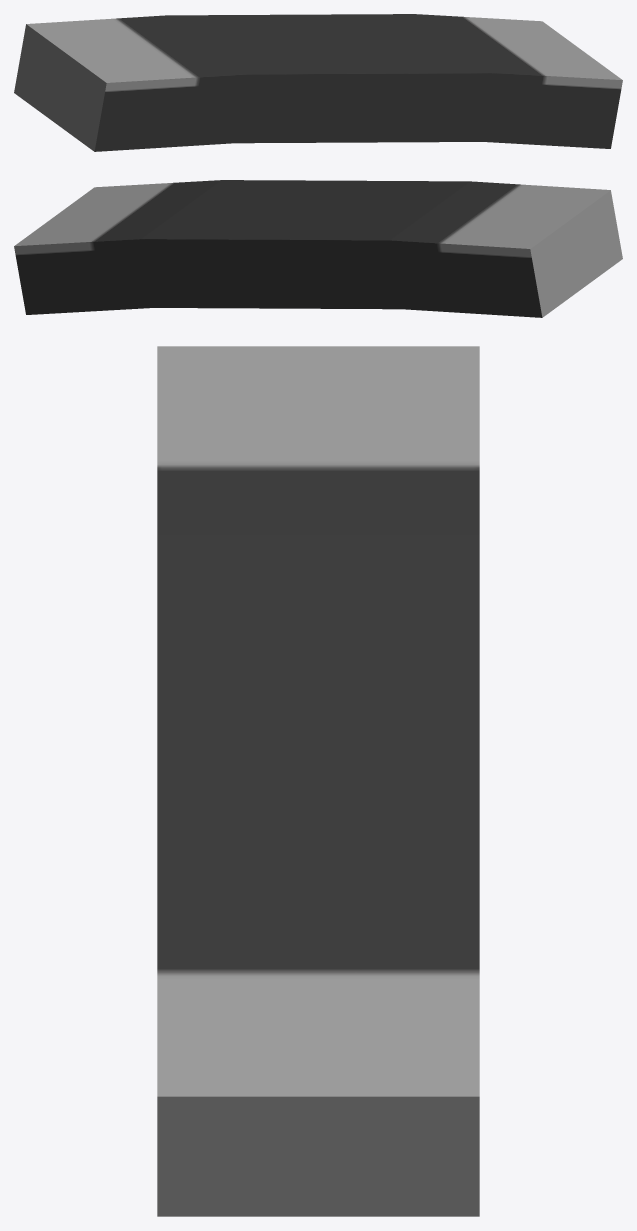
The model's file is telephone.FBX.
3 views of the same model, one above another, from view 1: azimuth 30°, elevation 25°; view 2: azimuth 150°, elevation 25°; view 3: azimuth 270°, elevation 25° (orthographic). The views are drawn at different scales.
Visible parts, largest first — view 1: Object006_Object006_auv; view 2: Object006_Object006_auv; view 3: Object006_Object006_auv.
Boxes of the visible parts, <box> form: Object006_Object006_auv: <box>14,14,622,151</box>; Object006_Object006_auv: <box>14,180,622,317</box>; Object006_Object006_auv: <box>157,346,479,1216</box>.
Size of the model in its own units: 68.62 by 23.47 by 18.12.
1 material, 1 textured.
